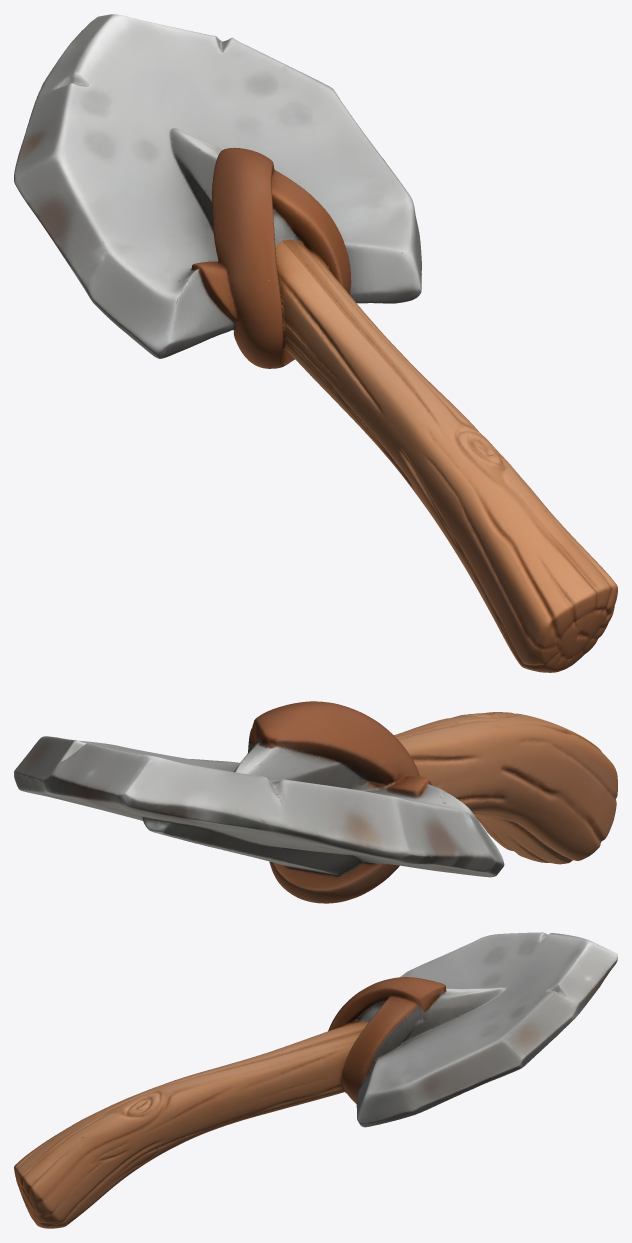
The model's file is Meshy_AI_Stone_Pickaxe_Icon_0209091313_texture.fbx.
The picture shows the model from 3 angles, top to bottom: view 1: azimuth 30°, elevation 25°; view 2: azimuth 150°, elevation 25°; view 3: azimuth 270°, elevation 25°; orthographic projection. The views are drawn at different scales.
Parts seen in each view (by area): view 1: Mesh_0; view 2: Mesh_0; view 3: Mesh_0.
Part boxes in pixels (x1,y1,x2,y2): Mesh_0: [14, 14, 617, 672]; Mesh_0: [14, 701, 617, 903]; Mesh_0: [14, 932, 617, 1228].
Size of the model in its own units: 89.41 by 97.25 by 200.
1 material, 1 textured.
